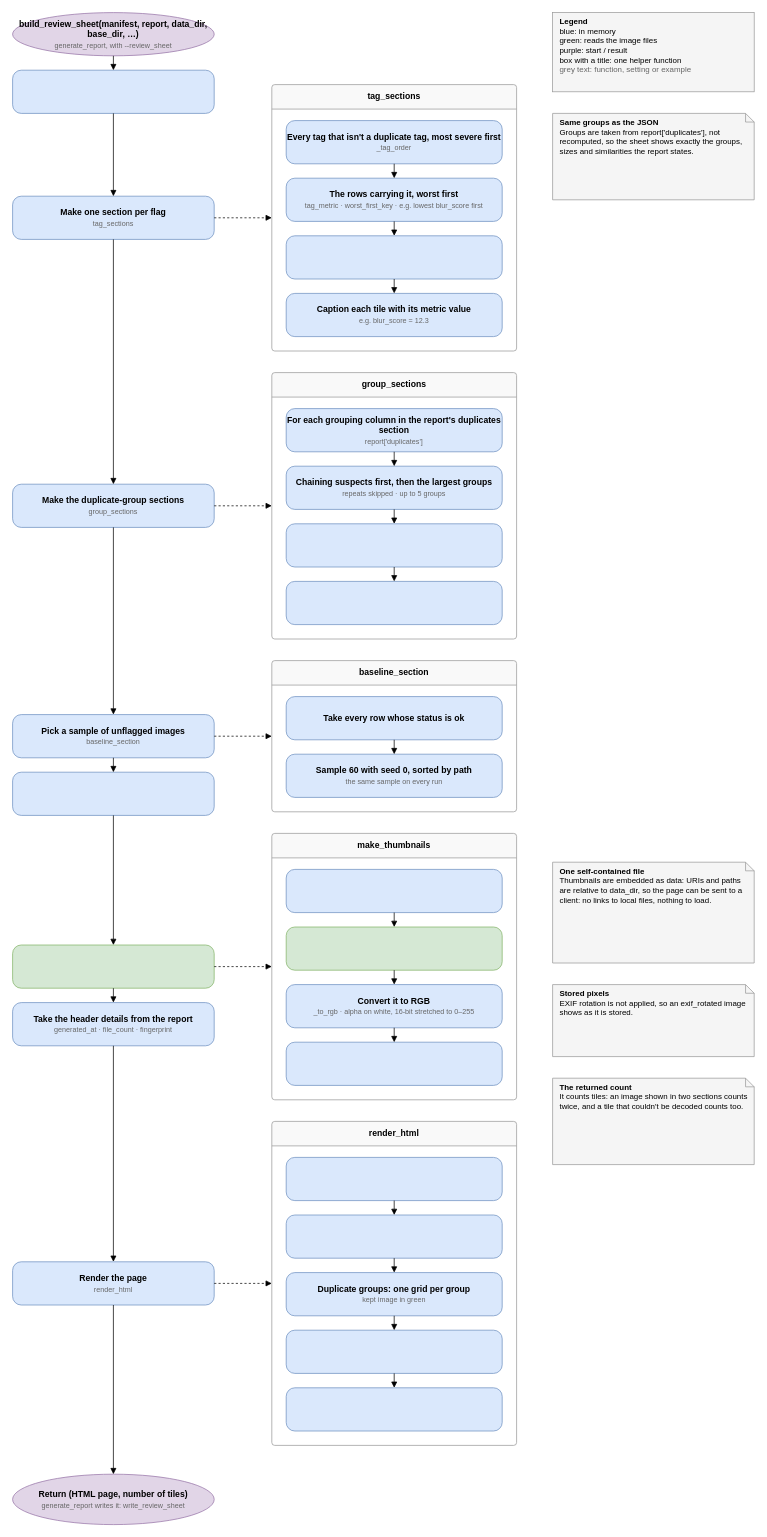
Image size: 767x1537. Some labels were removed from this diagram. Here are the shapes that lost their labels. From the top down, the centre of each, then its label:
At (113,91): "Give each row its relative path, absolute path, status and reason _rows".
At (393,257): "Keep the first 60 max_per_section".
At (393,545): "Kept member first, at most 12 members 'N more not shown'".
At (393,603): "Add the size, folders, mean cosine and suspect badge from the report".
At (113,793): "Collect every image the page will show items from the three kinds of sections".
At (393,891): "Take each distinct path once sorted set".
At (113,966): "Make the thumbnails in parallel make_thumbnails · 8 threads".
At (393,948): "Open and fully decode it; give up if it fails thumbnail_uri → None".
At (393,1063): "Shrink to 128 px and encode as JPEG quality 70 · base64 data: URI".
At (393,1179): "Header and navigation time, file count, fingerprint".
At (393,1236): "Flags: one grid per tag e.g. '60 of 412 shown, worst first by blur_score'".
At (393,1351): "Baseline: one grid of the sample".
At (393,1409): "Each tile: the image or 'could not be decoded' _tile · path · status · caption".
